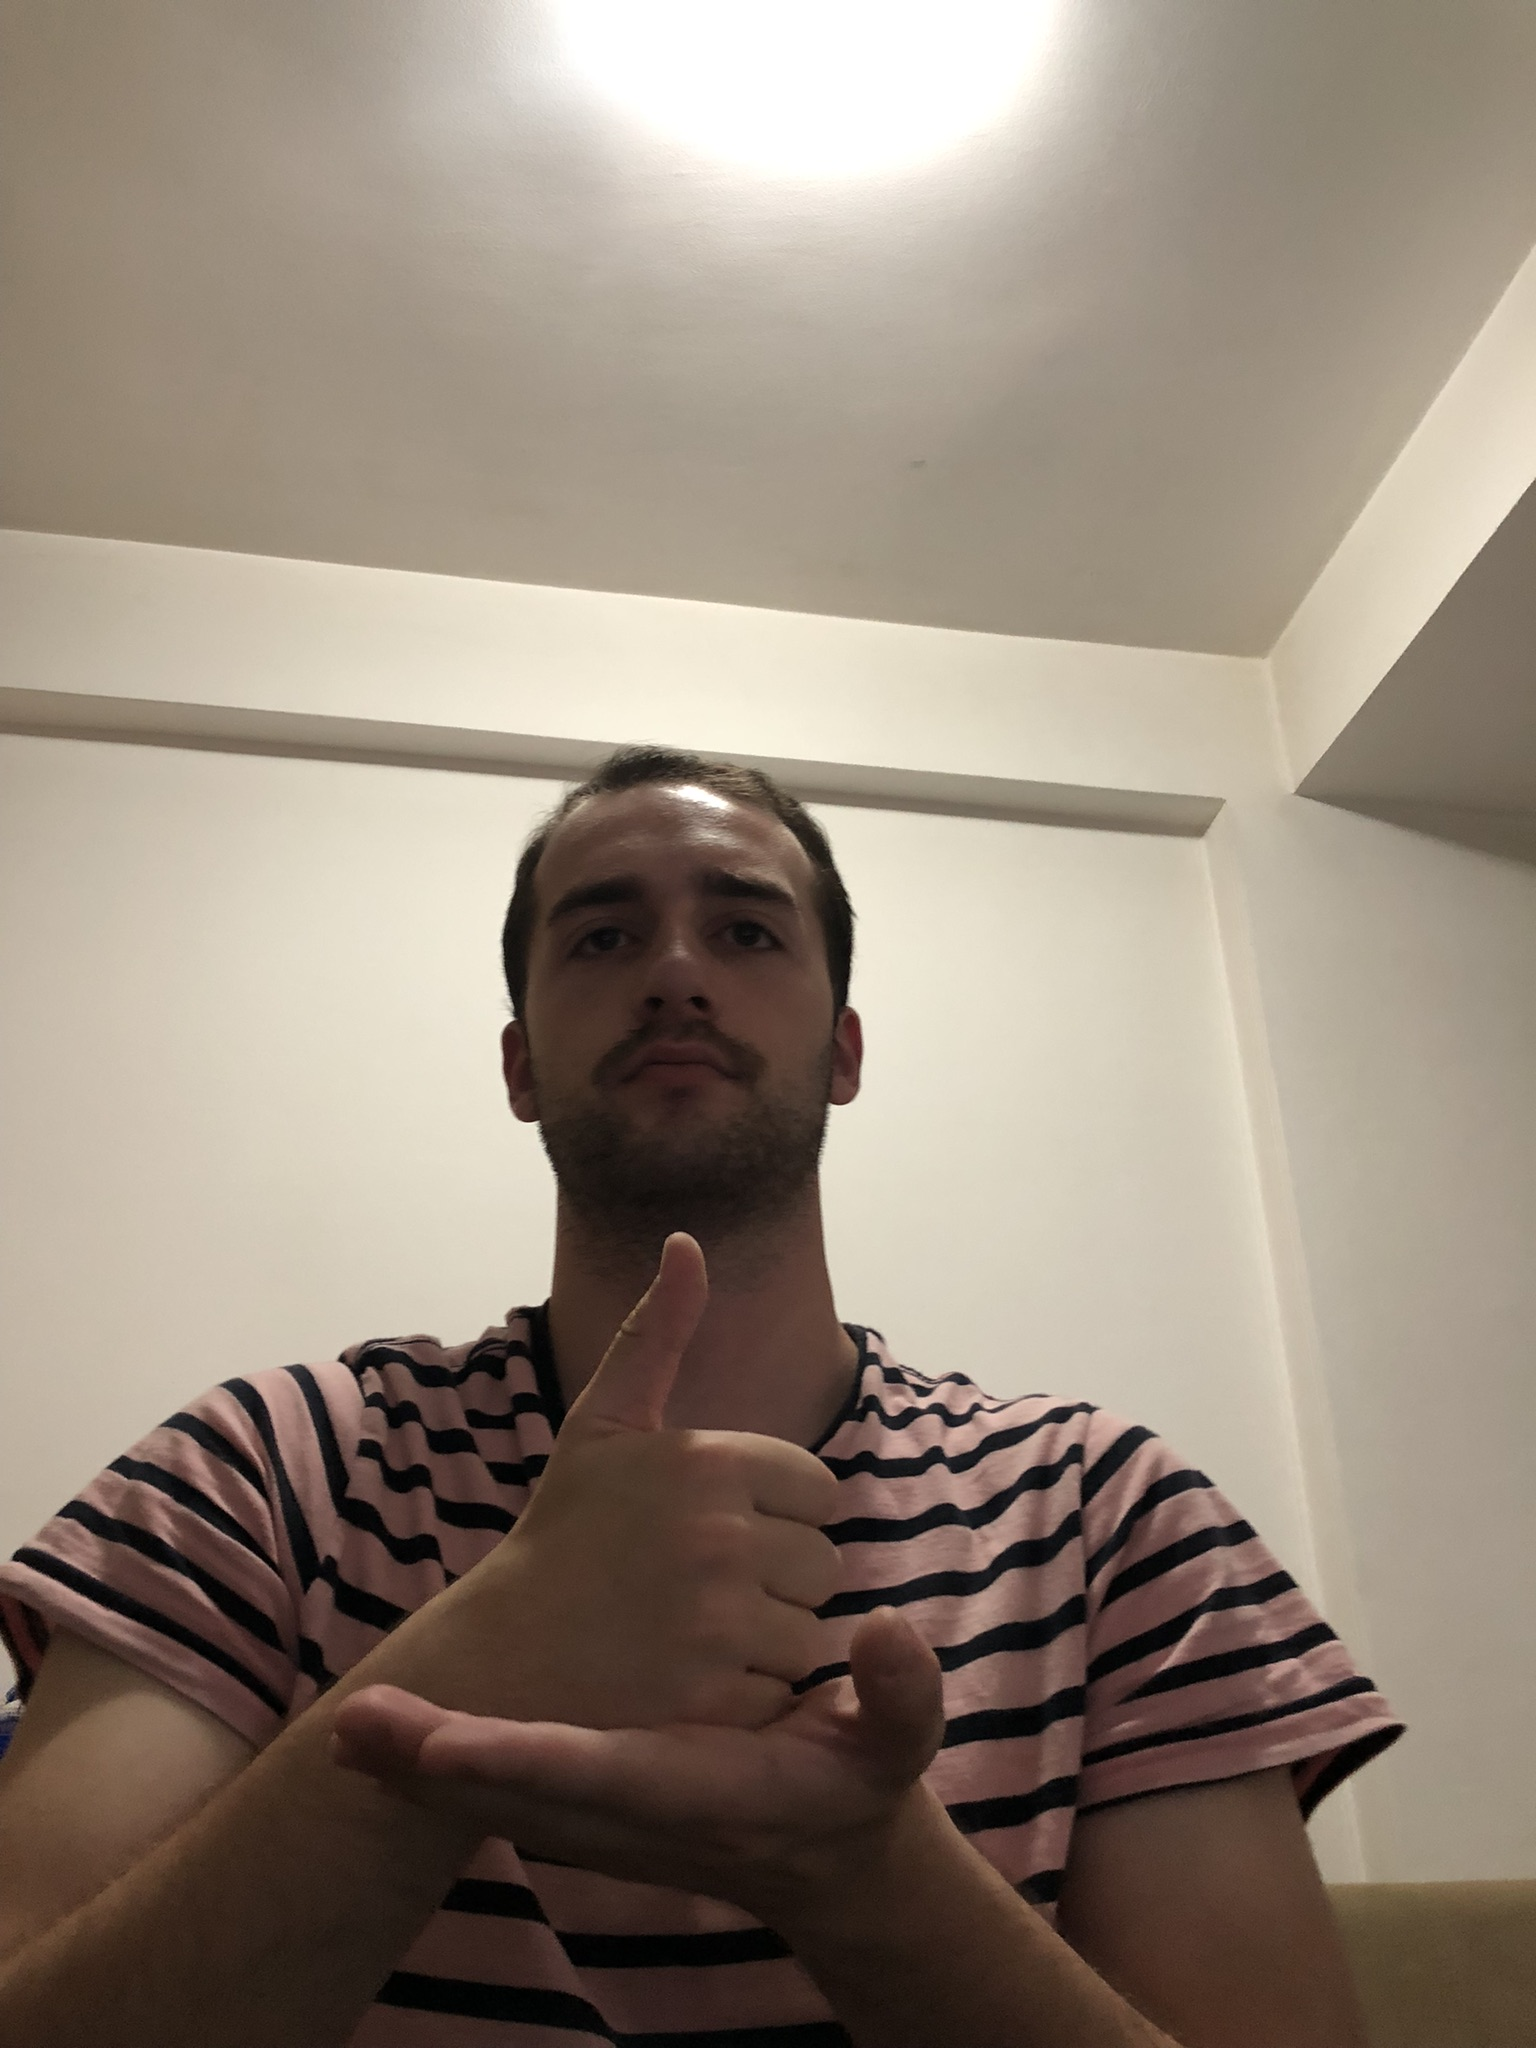Help: (273, 1222, 960, 1895)
